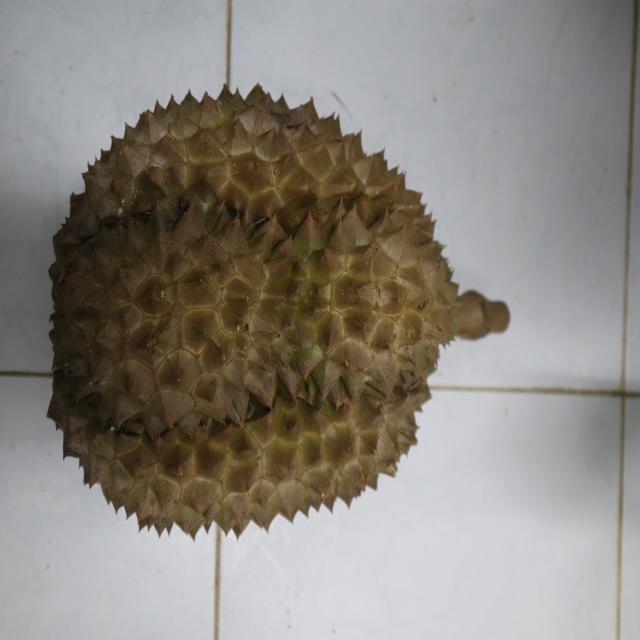mature: (44, 83, 459, 542)
